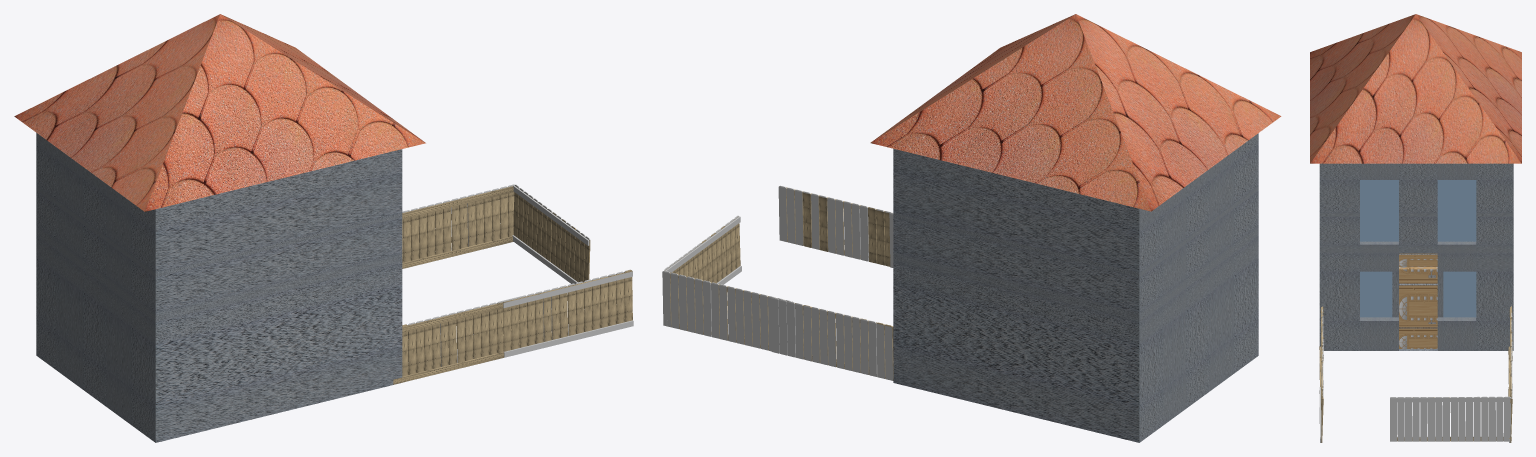
The model's file is haus2_schmal_mit_vorgarten.fbx.
3 views of the same model, side by side, from view 1: azimuth 30°, elevation 25°; view 2: azimuth 150°, elevation 25°; view 3: azimuth 270°, elevation 25° (orthographic). The views are drawn at different scales.
Parts seen in each view (by area): view 1: haus, zaun; view 2: haus, zaun; view 3: haus, zaun.
Part boxes in pixels (x1,y1,x2,y2): haus: (14,14,632,442); zaun: (402,184,633,366); haus: (665,14,1281,442); zaun: (662,185,893,380); haus: (1310,14,1521,442); zaun: (1319,309,1512,442).
Size of the model in its own units: 798 by 1749 by 1200.
26 materials, 20 textured.
